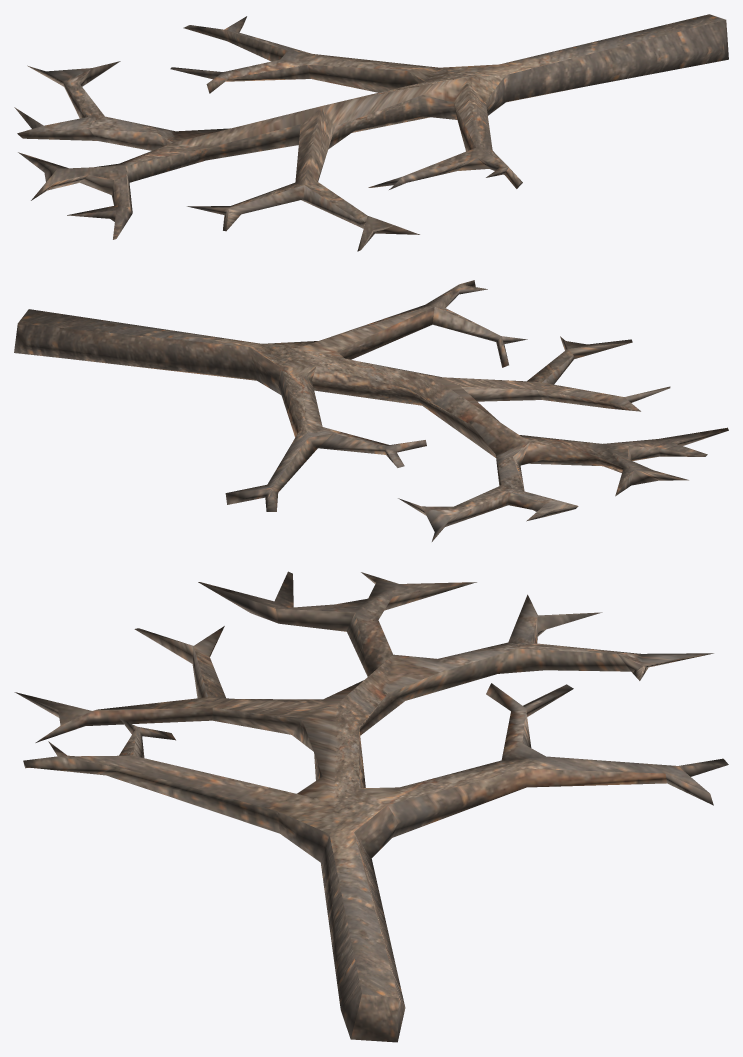
Rendered from Branch 4.fbx.
3 renders of one model, top to bottom at view 1: azimuth 30°, elevation 25°; view 2: azimuth 150°, elevation 25°; view 3: azimuth 270°, elevation 25°, orthographic. The views are drawn at different scales.
Visible parts, largest first — view 1: Plane.003; view 2: Plane.003; view 3: Plane.003.
Boxes of the visible parts, box(x1,y1,x2,y2) form: Plane.003: box(14, 14, 728, 251); Plane.003: box(14, 280, 728, 541); Plane.003: box(14, 571, 728, 1042).
Size of the model in its own units: 7.16 by 0.6311 by 4.94.
